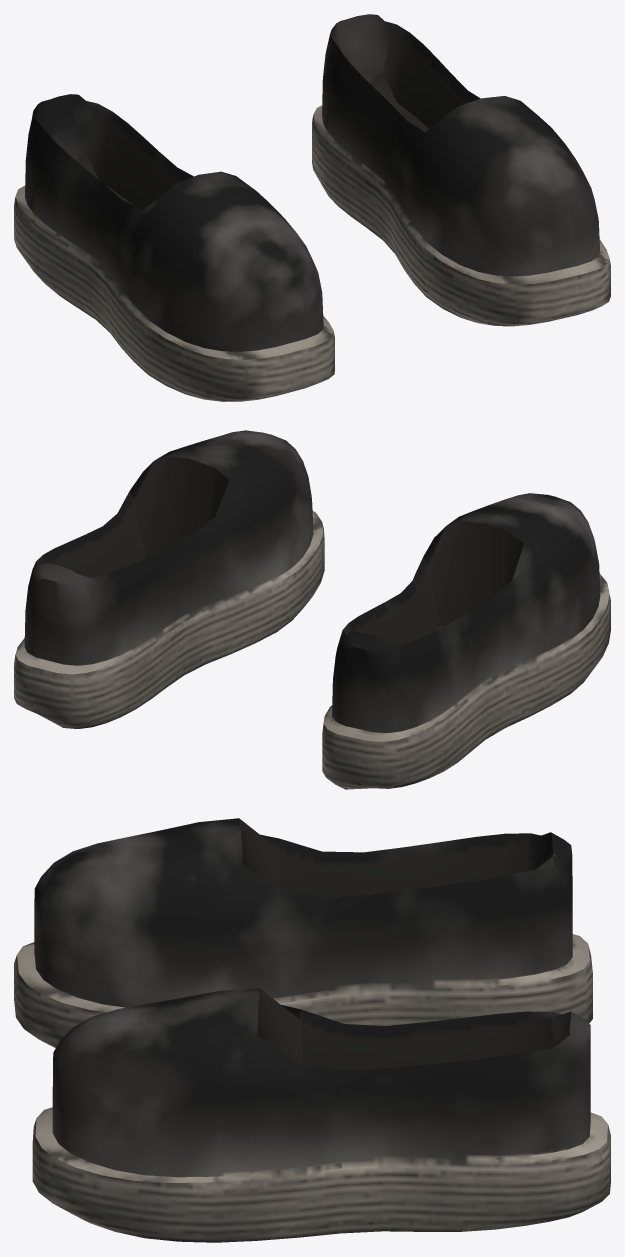
Rendered from work_shoes.glb.
The picture shows the model from 3 angles, top to bottom: view 1: azimuth 30°, elevation 25°; view 2: azimuth 150°, elevation 25°; view 3: azimuth 270°, elevation 25°; orthographic projection. The views are drawn at different scales.
Parts seen in each view (by area): view 1: WorkShoes; view 2: WorkShoes; view 3: WorkShoes.
Boxes of the visible parts, box(x1,y1,x2,y2) form: WorkShoes: box(14, 14, 610, 401); WorkShoes: box(14, 430, 610, 789); WorkShoes: box(14, 818, 610, 1242).
Size of the model in its own units: 0.2987 by 0.1107 by 0.2937.
1 material, 1 textured.
